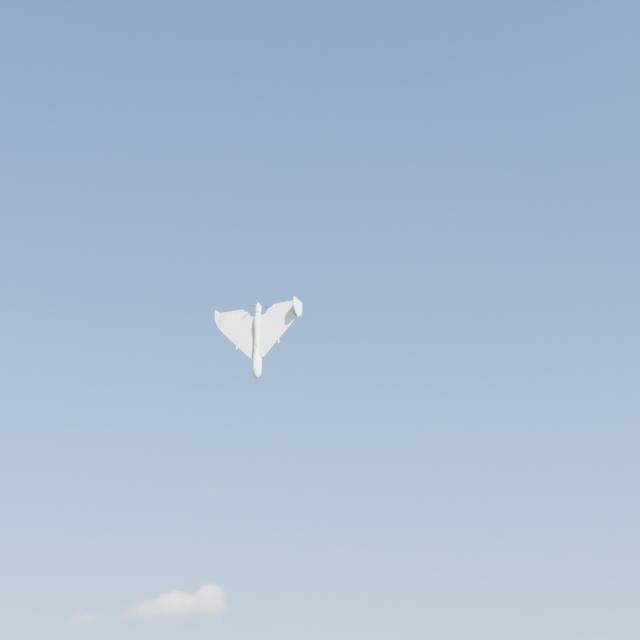Airaplan: (215, 296, 302, 379)
